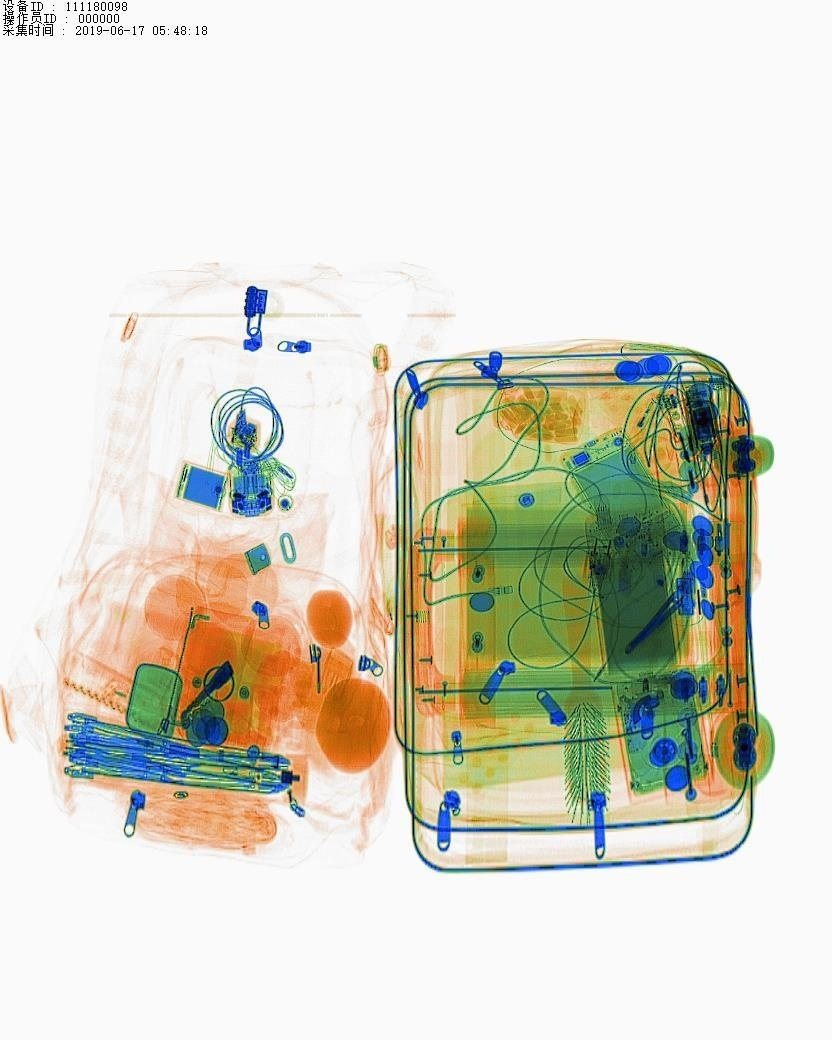NonmetallicFire: (615, 376, 680, 470)
